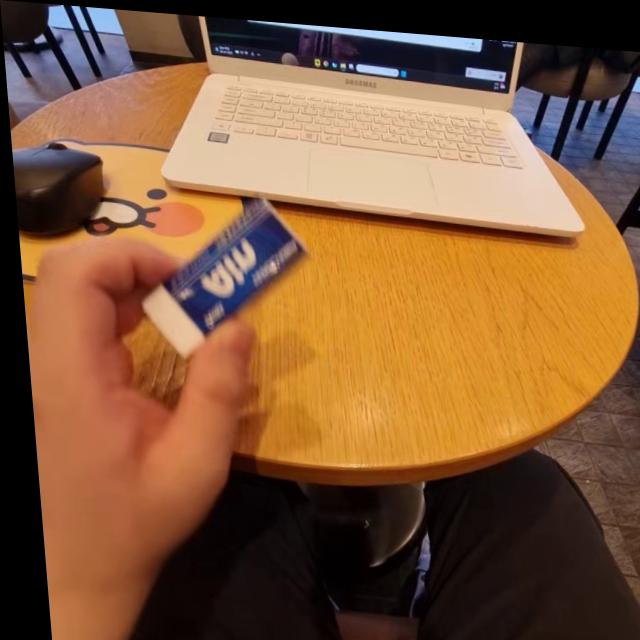grab_eraser: (11, 172, 316, 581)
mouse: (9, 129, 105, 264)
